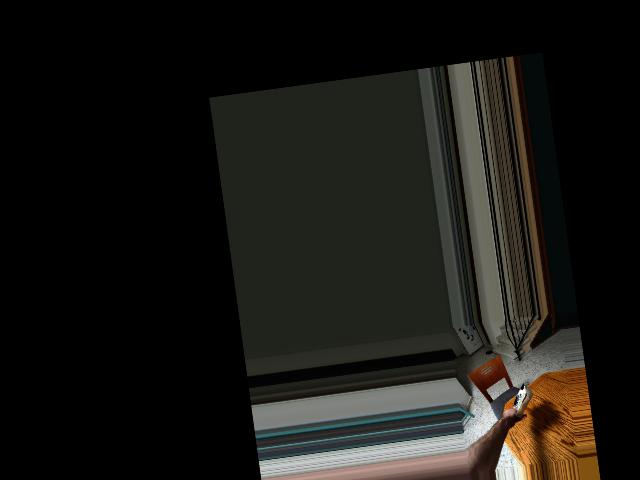cheese: (507, 381, 536, 419)
